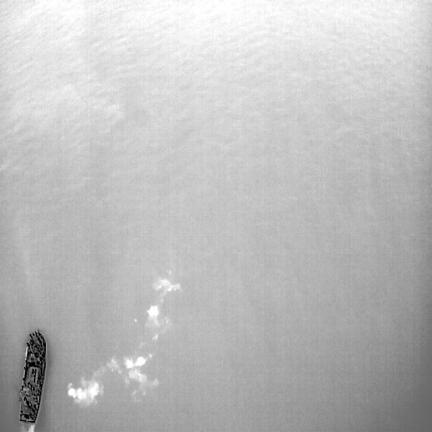flukeprints: (127, 366, 158, 393), (68, 380, 102, 404), (153, 278, 180, 297), (125, 356, 146, 366), (147, 305, 158, 316)
